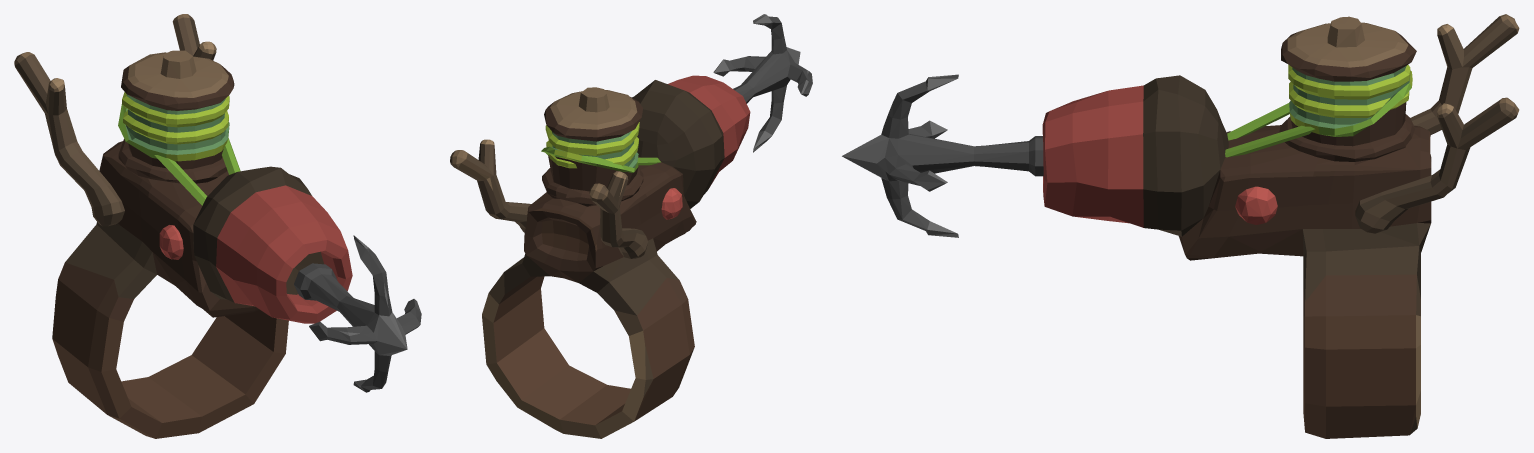
The model's file is VR_Prop_GrappleHook_01a.glb.
3 renders of one model, left to right at view 1: azimuth 30°, elevation 25°; view 2: azimuth 150°, elevation 25°; view 3: azimuth 270°, elevation 25°, orthographic. The views are drawn at different scales.
Parts seen in each view (by area): view 1: VR_SP_Proop_GrappleHook_01a, VR_SP_Proop_Hook_01a; view 2: VR_SP_Proop_GrappleHook_01a, VR_SP_Proop_Hook_01a; view 3: VR_SP_Proop_GrappleHook_01a, VR_SP_Proop_Hook_01a.
Boxes of the visible parts, x1=… form: VR_SP_Proop_GrappleHook_01a: x1=14, y1=14, x2=352, y2=438; VR_SP_Proop_Hook_01a: x1=294, y1=235, x2=421, y2=392; VR_SP_Proop_GrappleHook_01a: x1=450, y1=75, x2=750, y2=438; VR_SP_Proop_Hook_01a: x1=713, y1=14, x2=812, y2=152; VR_SP_Proop_GrappleHook_01a: x1=1042, y1=14, x2=1519, y2=438; VR_SP_Proop_Hook_01a: x1=842, y1=74, x2=1043, y2=237.
Bounding box in the file's own units: 0.0671 × 0.1195 × 0.1837.
1 material, 1 textured.
